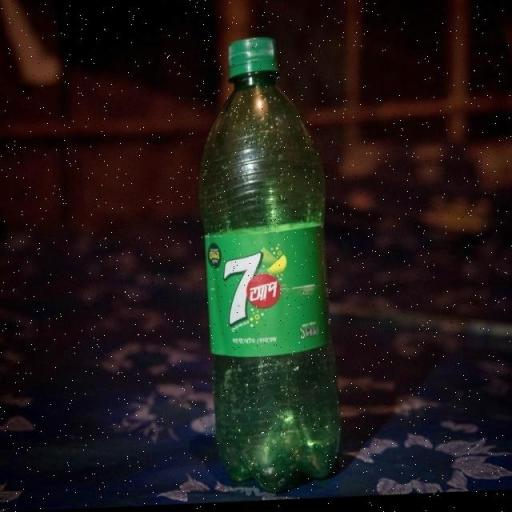plastic: (194, 32, 347, 494)
